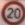20 km speed: (1, 1, 24, 25)
